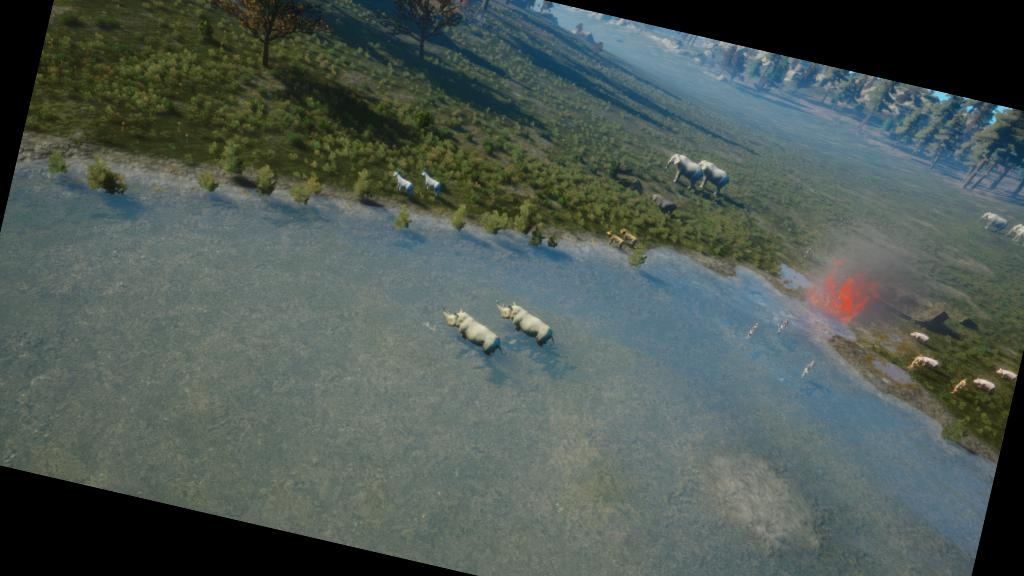Fire: (802, 261, 883, 330), (428, 0, 474, 21)
elephant: (656, 148, 710, 197), (689, 157, 738, 201), (972, 206, 1010, 240), (1002, 218, 1023, 261)
hippopotamus: (640, 186, 682, 224)
human: (795, 354, 821, 388), (947, 372, 971, 404), (770, 313, 794, 342), (740, 317, 764, 345)
lion: (590, 225, 630, 256), (614, 226, 643, 252)
pig: (990, 360, 1018, 386), (905, 324, 934, 348), (970, 374, 998, 397), (915, 353, 947, 372)
rhinoceros: (480, 290, 568, 362), (422, 296, 510, 367)
smoke: (806, 198, 936, 338)
zebra: (410, 166, 457, 205), (379, 163, 421, 204)
